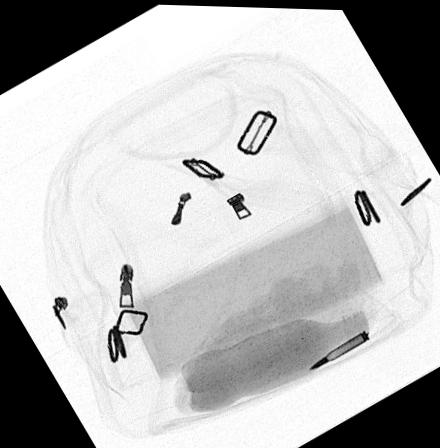Bullet: (307, 328, 371, 368)
